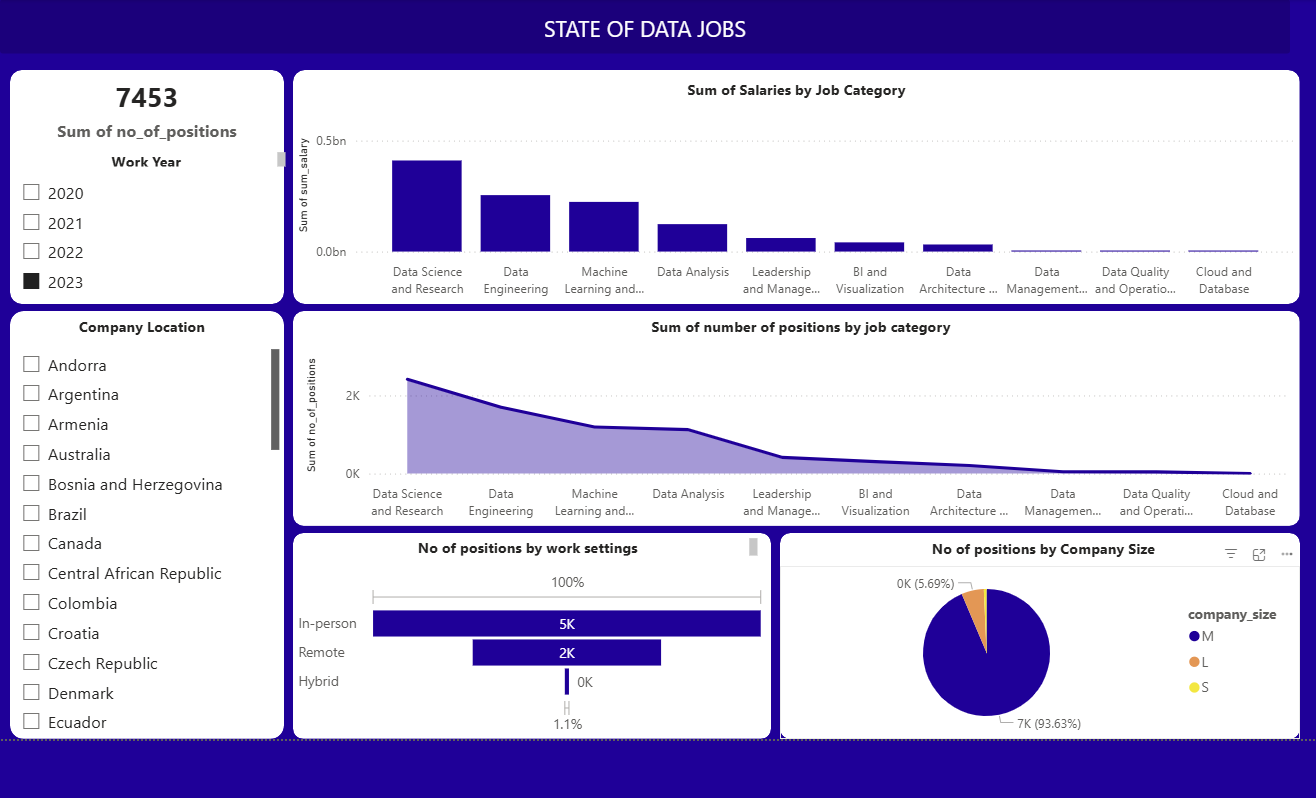

The dashboard page shown, as its layout file describes it:
{"tool":"powerbi","page":{"name":"Page 1","canvas":[1280,720],"ordinal":0},"visuals":[{"type":"shape","box":[0,0,1254.7,53.5],"z":0},{"type":"shape","box":[9.7,69.1,266.5,227.6],"z":1000},{"type":"textbox","box":[709.1,327.8,179.9,87.5],"z":2000},{"type":"textbox","box":[0,8.8,1254.7,44.7],"z":3000},{"type":"shape","box":[9.7,303.5,266.5,416.3],"z":4000},{"type":"shape","box":[285,519.4,464.9,200.4],"z":5000},{"type":"shape","box":[758.7,519.4,505.8,200.4],"z":6000},{"type":"shape","box":[285,303.5,979.5,209.1],"z":7000},{"type":"shape","box":[285,69.1,979.5,227.6],"z":8000},{"type":"clusteredColumnChart","fields":{"Category":["Jobs_in_data_summary.job_category"],"Y":["Sum(Jobs_in_data_summary.sum_salary)"]},"box":[285,102.1,979.5,194.5],"z":9000},{"type":"shape","box":[25.3,357,189.7,29.2],"z":10000},{"type":"textbox","box":[292.8,72.9,963.9,29.2],"z":11000},{"type":"stackedAreaChart","fields":{"Y":["Sum(Jobs_in_data_summary.no_of_positions)"],"Category":["Jobs_in_data_summary.job_category"]},"box":[292.8,333.6,971.7,179],"z":12000},{"type":"textbox","box":[301.5,303.5,955.1,30.2],"z":13000},{"type":"card","fields":{"Values":["Sum(Jobs_in_data_summary.no_of_positions)"]},"box":[9.7,69.1,266.5,74.9],"z":14000},{"type":"slicer","fields":{"Values":["Jobs_in_data_summary.company_location"]},"box":[9.7,335.6,266.5,384.2],"z":15000},{"type":"textbox","box":[16.5,303.5,243.2,32.1],"z":16000},{"type":"slicer","fields":{"Values":["Jobs_in_data_summary.work_year"]},"box":[9.7,168.3,266.5,128.4],"z":17000},{"type":"textbox","box":[9.7,144,273.3,24.3],"z":18000},{"type":"funnel","fields":{"Category":["Jobs_in_data_summary.work_setting"],"Y":["Sum(Jobs_in_data_summary.no_of_positions)"]},"box":[285,551.5,464.9,168.3],"z":19000},{"type":"textbox","box":[292.8,519.4,449.4,27.2],"z":20000},{"type":"pieChart","fields":{"Category":["Jobs_in_data_summary.company_size"],"Y":["Sum(Jobs_in_data_summary.no_of_positions)"]},"box":[758.7,551.5,505.8,168.3],"z":21000},{"type":"textbox","box":[765.5,519.4,499,32.1],"z":22000}]}

Visuals, with their boxes in screenshot pixels (x1, y1, x2, y2):
shape: [left=0, top=0, right=1272, bottom=54]
shape: [left=10, top=70, right=280, bottom=301]
textbox: [left=719, top=332, right=901, bottom=421]
textbox: [left=0, top=9, right=1272, bottom=54]
shape: [left=10, top=308, right=280, bottom=730]
shape: [left=289, top=527, right=760, bottom=730]
shape: [left=769, top=527, right=1282, bottom=730]
shape: [left=289, top=308, right=1282, bottom=520]
shape: [left=289, top=70, right=1282, bottom=301]
clusteredColumnChart - Jobs_in_data_summary.job_category x Sum(Jobs_in_data_summary.sum_salary): [left=289, top=104, right=1282, bottom=301]
shape: [left=26, top=362, right=218, bottom=392]
textbox: [left=297, top=74, right=1274, bottom=104]
stackedAreaChart - Sum(Jobs_in_data_summary.no_of_positions) x Jobs_in_data_summary.job_category: [left=297, top=338, right=1282, bottom=520]
textbox: [left=306, top=308, right=1274, bottom=338]
card - Sum(Jobs_in_data_summary.no_of_positions): [left=10, top=70, right=280, bottom=146]
slicer - Jobs_in_data_summary.company_location: [left=10, top=340, right=280, bottom=730]
textbox: [left=17, top=308, right=263, bottom=340]
slicer - Jobs_in_data_summary.work_year: [left=10, top=171, right=280, bottom=301]
textbox: [left=10, top=146, right=287, bottom=171]
funnel - Jobs_in_data_summary.work_setting x Sum(Jobs_in_data_summary.no_of_positions): [left=289, top=559, right=760, bottom=730]
textbox: [left=297, top=527, right=753, bottom=554]
pieChart - Jobs_in_data_summary.company_size x Sum(Jobs_in_data_summary.no_of_positions): [left=769, top=559, right=1282, bottom=730]
textbox: [left=776, top=527, right=1282, bottom=559]
